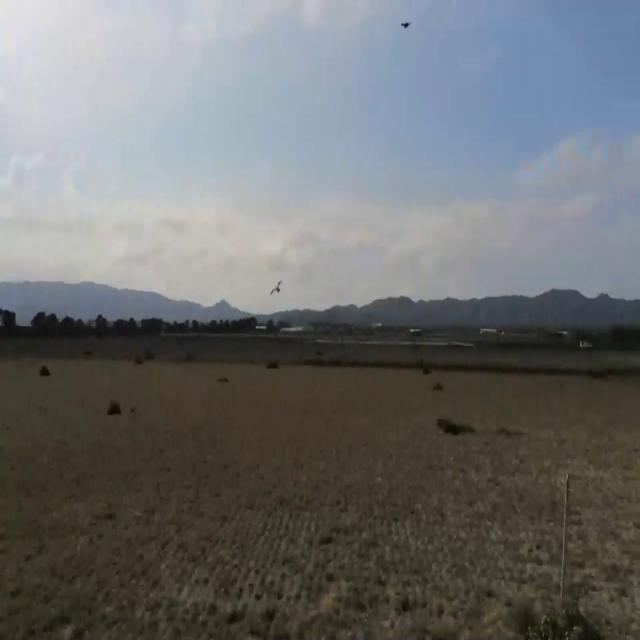bird: (269, 273, 283, 306), (400, 10, 412, 39)
